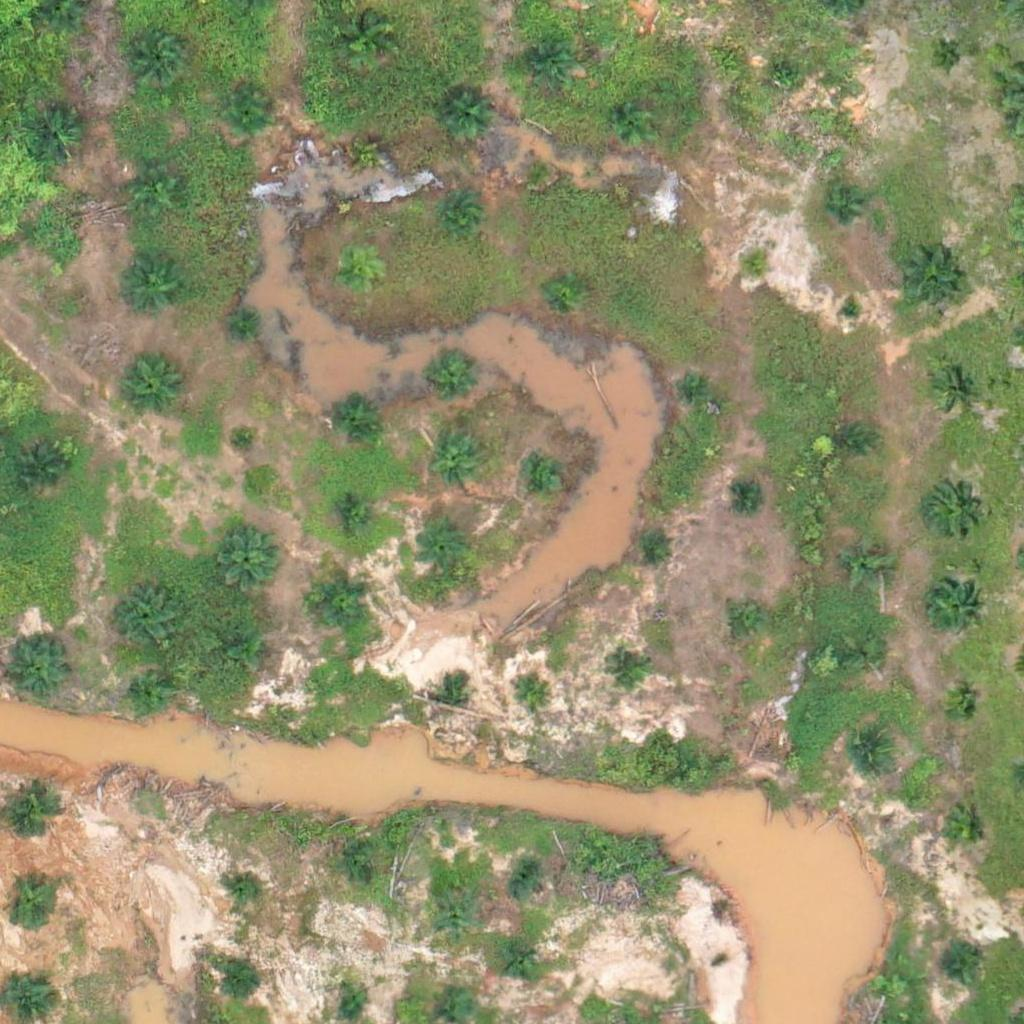Kelapa_Sawit: (116, 243, 191, 319), (896, 251, 959, 314), (129, 25, 192, 88), (24, 104, 87, 167), (9, 636, 71, 699), (121, 355, 184, 417), (213, 522, 276, 584), (923, 578, 985, 641), (119, 581, 181, 644), (314, 573, 376, 635), (4, 880, 54, 931), (4, 786, 54, 837), (340, 14, 390, 65), (437, 94, 487, 145), (332, 251, 382, 302), (427, 352, 477, 403), (926, 481, 976, 532), (939, 805, 989, 856), (842, 538, 892, 589), (345, 123, 395, 174), (17, 436, 67, 486), (132, 174, 182, 224), (325, 391, 375, 441), (432, 436, 482, 486), (418, 522, 468, 572), (521, 39, 571, 89), (125, 665, 175, 715), (213, 628, 263, 678), (939, 946, 977, 984), (832, 423, 870, 461), (226, 304, 264, 342), (615, 102, 653, 140), (767, 58, 805, 96), (929, 39, 967, 77), (735, 248, 773, 286), (337, 493, 375, 531), (226, 868, 264, 906), (338, 982, 376, 1020), (506, 937, 544, 975), (505, 862, 543, 900), (230, 91, 268, 128), (525, 460, 562, 498), (942, 690, 980, 727), (938, 367, 975, 405), (732, 478, 770, 515), (608, 653, 645, 691), (849, 636, 887, 673), (38, 225, 75, 263), (819, 187, 856, 225), (516, 148, 553, 186), (227, 418, 264, 456), (512, 677, 549, 715), (216, 963, 254, 1000), (349, 862, 386, 900), (434, 899, 471, 937), (442, 198, 479, 235), (850, 734, 887, 771), (630, 526, 667, 563), (727, 604, 764, 641), (547, 271, 584, 308), (678, 369, 715, 406), (435, 683, 460, 709), (838, 297, 863, 322)
